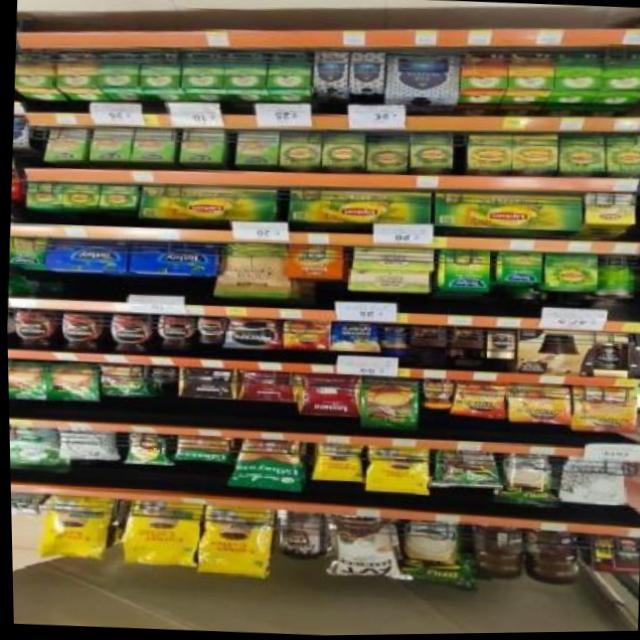Coffee: (570, 387, 633, 434), (507, 383, 570, 424), (107, 312, 154, 355), (57, 308, 102, 352), (9, 308, 57, 349), (450, 382, 500, 418), (225, 317, 277, 349), (155, 314, 196, 353), (419, 378, 450, 409), (483, 330, 513, 359), (196, 318, 223, 343), (147, 366, 176, 383)
